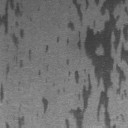red iron: (57, 0, 128, 128), (0, 0, 24, 48), (6, 116, 24, 128), (20, 50, 32, 66), (42, 98, 48, 112), (0, 83, 4, 100), (6, 66, 10, 75), (46, 45, 48, 51), (66, 60, 69, 64)
